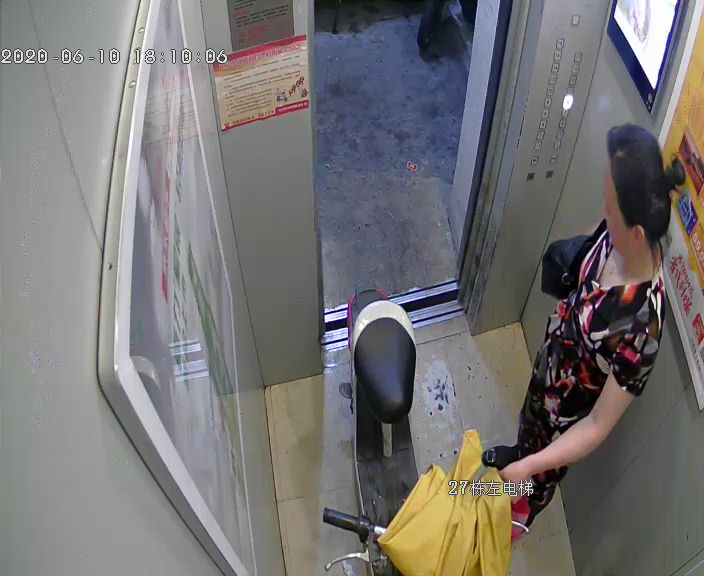Electric-bicycle: (348, 282, 421, 576)
